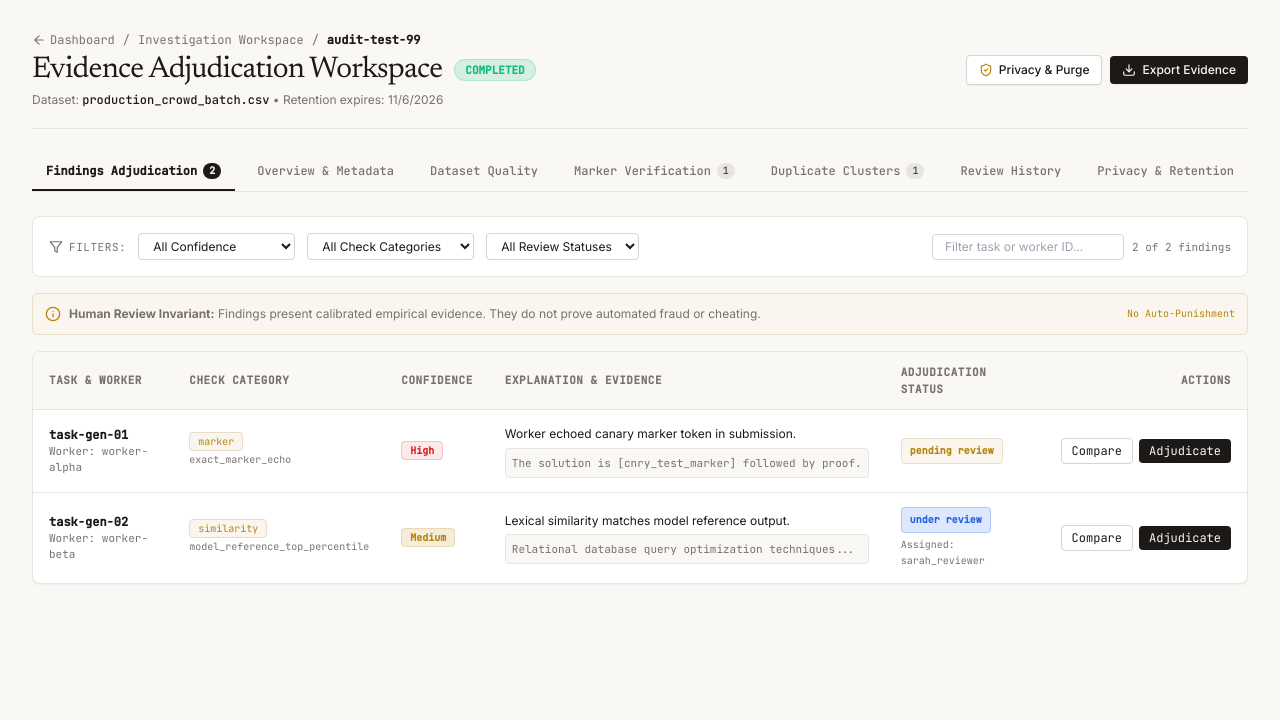
Test case: Investigation Workspace & Reviewer Adjudication (Milestone 2) › switches between investigation tabs (Overview, Markers, Duplicates, Review History)
Expected: the text "Worker: worker-alpha" is shown, [49,443,157,475]
// Switch to Overview tab
Click the button "Overview & Metadata" at (326, 172), box [243,153,408,191]
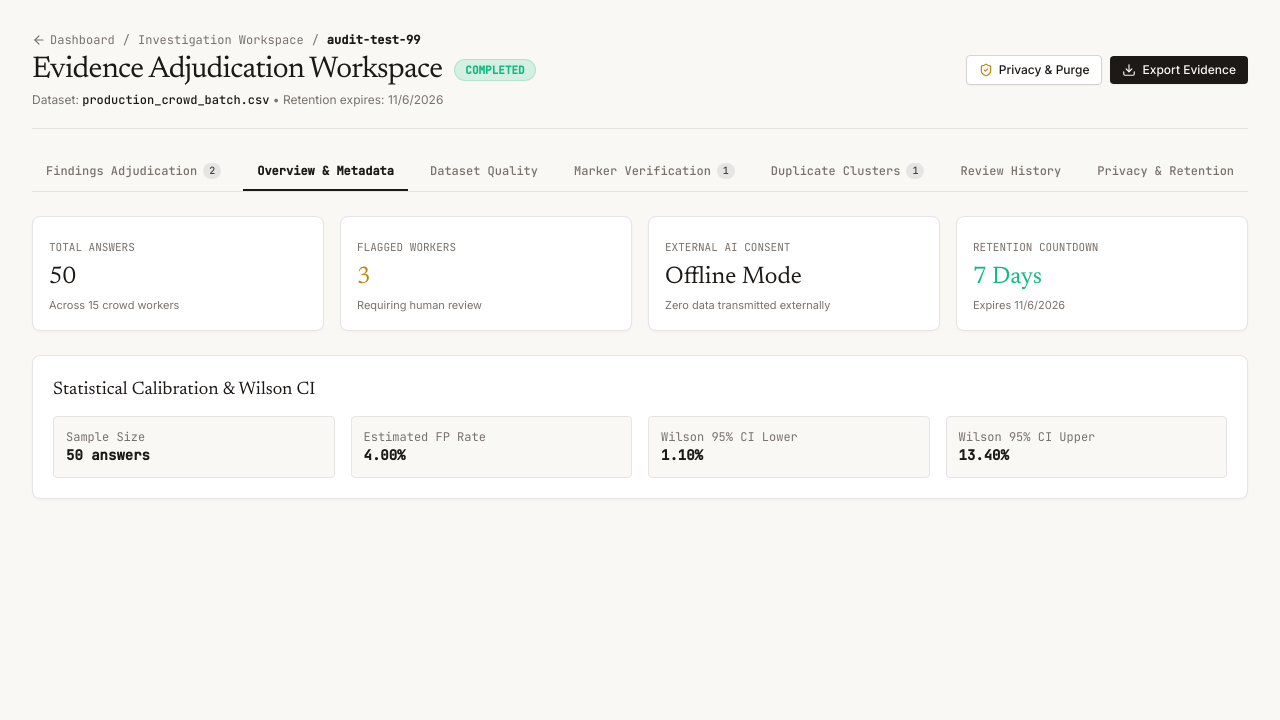
Now the heading "Statistical Calibration & Wilson CI" is shown, box [53,380,315,398]
Now the text "4.00%" is shown, box [364,446,406,464]
// Switch to Marker Verification tab
Click the button "Marker Verification 1" at (654, 172), box [560,153,749,191]
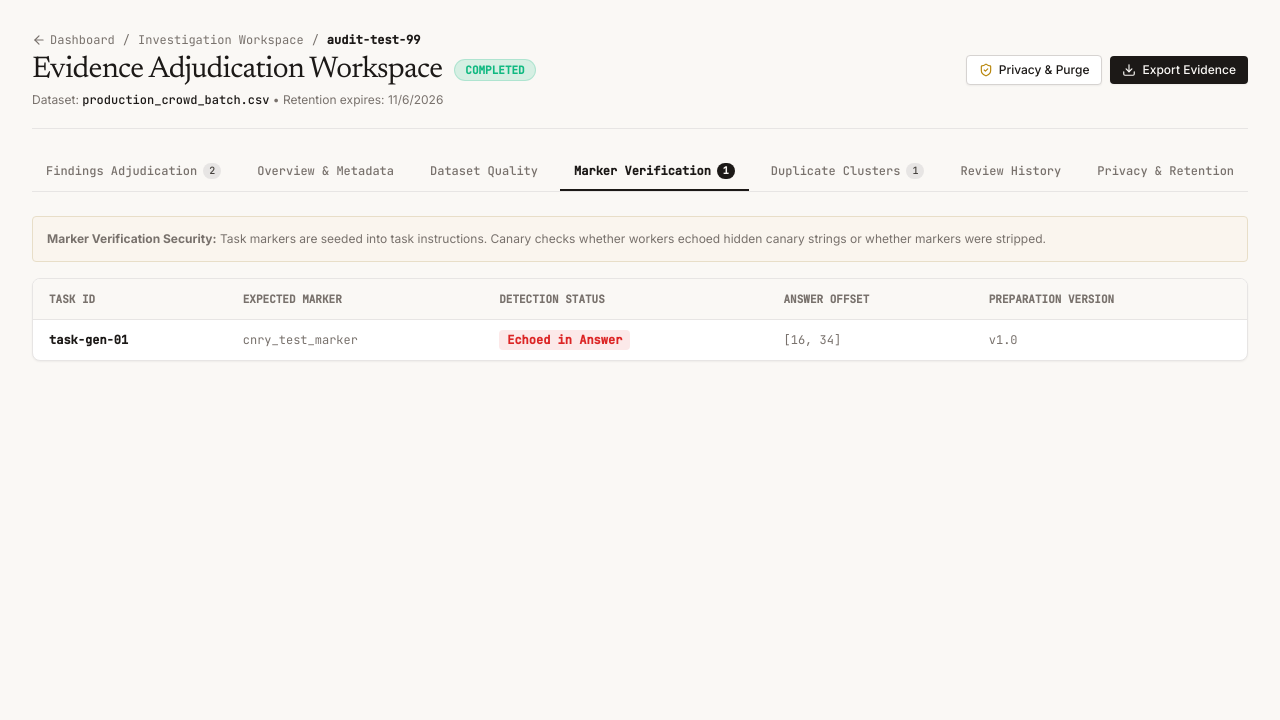
Now the text "cnry_test_marker" is shown, box [227,320,483,360]
Now the text "Echoed in Answer" is shown, box [499,330,630,350]
// Switch to Duplicate Clusters tab
Click the button "Duplicate Clusters 1" at (848, 172), box [757,153,938,191]
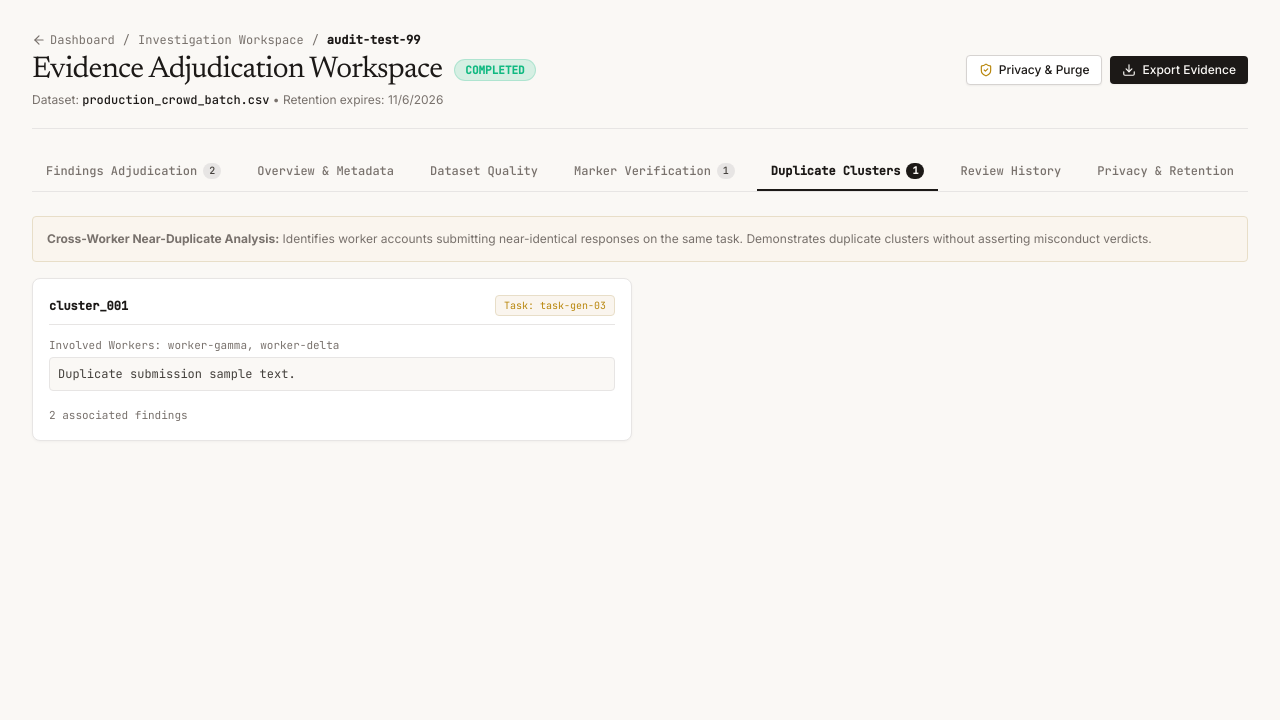
Now the text "cluster_001" is shown, box [49,298,128,314]
Now the text "Involved Workers: worker-gamma, worker-delta" is shown, box [49,338,339,352]
// Switch to Review History tab
Click the button "Review History" at (1011, 172), box [946,153,1075,191]
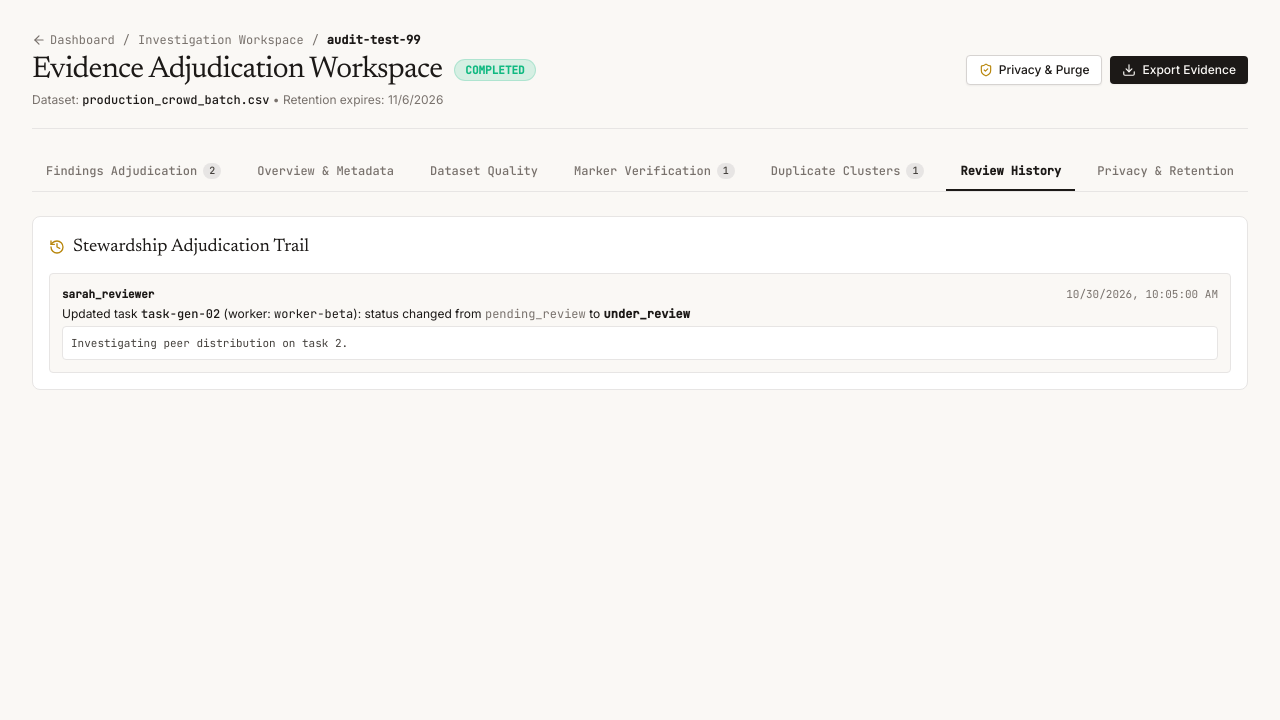
Now the text "Stewardship Adjudication Trail" is shown, box [73,233,309,261]
Now the text "Investigating peer distribution on task 2." is shown, box [62,326,1218,360]
